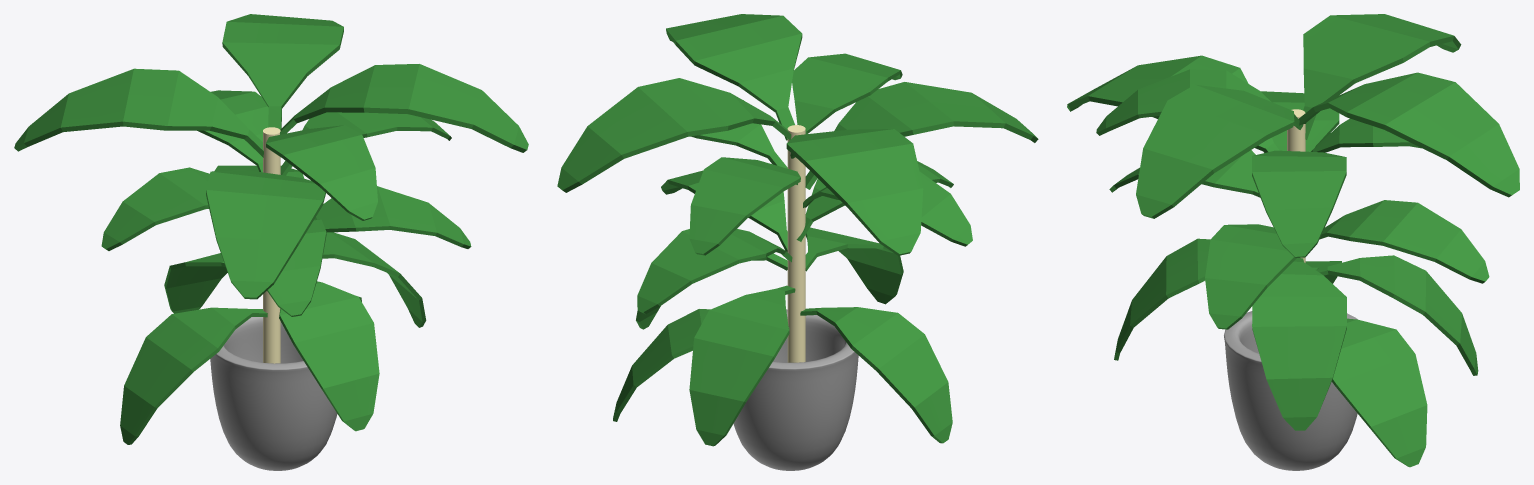
File: plant_small.fbx
The picture shows the model from 3 angles, left to right: view 1: azimuth 30°, elevation 25°; view 2: azimuth 150°, elevation 25°; view 3: azimuth 270°, elevation 25°; orthographic projection. The views are drawn at different scales.
Parts seen in each view (by area): view 1: shortplant; view 2: shortplant; view 3: shortplant.
Part boxes in pixels (left/top/right/bottom): shortplant: left=14, top=14, right=528, bottom=470; shortplant: left=557, top=14, right=1038, bottom=470; shortplant: left=1067, top=14, right=1519, bottom=470.
Bounding box in the file's own units: 22.74 × 22.27 × 22.99.
